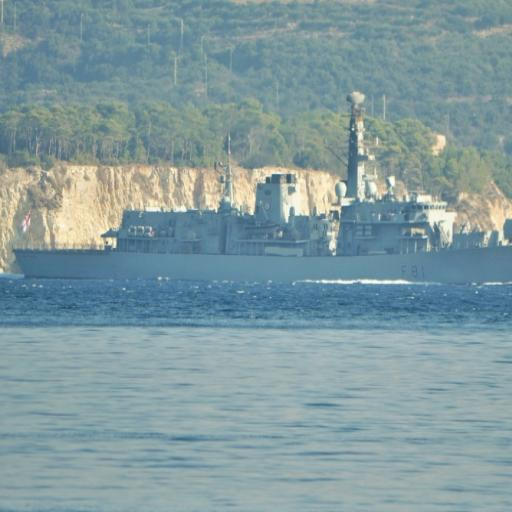Fragata: (2, 86, 512, 290)
